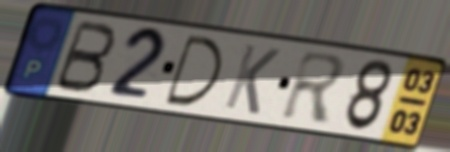2: (101, 25, 173, 105)
8: (342, 57, 395, 133)
B: (50, 17, 120, 95)
D: (162, 32, 226, 109)
K: (220, 41, 283, 118)
R: (277, 48, 351, 126)
